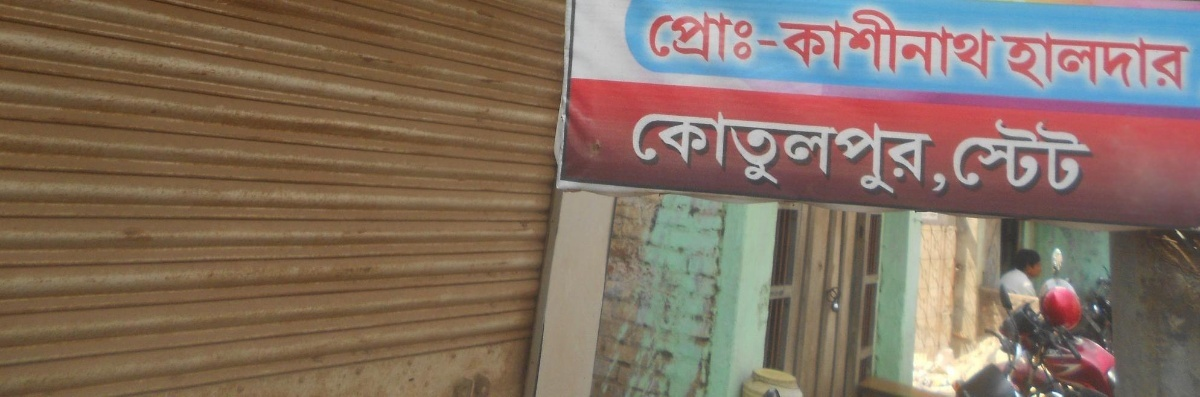text: (641, 104, 656, 198), (657, 104, 672, 198), (673, 104, 688, 198), (689, 104, 704, 198), (705, 104, 720, 198), (721, 104, 736, 198), (737, 104, 752, 198), (753, 104, 768, 198), (769, 104, 784, 198), (785, 104, 800, 198), (801, 104, 816, 198), (817, 104, 832, 198), (833, 104, 848, 198), (849, 104, 864, 198), (865, 104, 880, 198), (881, 104, 896, 198), (897, 104, 912, 198), (913, 104, 928, 198), (961, 112, 976, 195), (977, 112, 992, 195), (993, 112, 1008, 195), (1009, 112, 1024, 195), (1025, 112, 1040, 195), (1041, 112, 1056, 195), (1057, 112, 1072, 195), (1073, 112, 1088, 195), (785, 1, 800, 83), (801, 1, 816, 83), (817, 1, 832, 83), (833, 1, 848, 83), (849, 1, 864, 83), (865, 1, 880, 83), (881, 1, 896, 83), (897, 1, 912, 83), (913, 1, 928, 83), (929, 1, 944, 83), (945, 1, 960, 83), (961, 1, 976, 83), (977, 1, 992, 83), (1009, 23, 1024, 93), (1025, 23, 1040, 93), (1041, 23, 1056, 93), (1057, 23, 1072, 93), (1073, 23, 1088, 93), (1089, 23, 1104, 93), (1105, 23, 1120, 93), (1121, 23, 1136, 93), (1137, 23, 1152, 93), (1153, 23, 1168, 93), (1169, 23, 1184, 93), (929, 104, 940, 198), (737, 10, 753, 62), (657, 10, 672, 62), (673, 10, 688, 62), (689, 10, 704, 62), (705, 10, 720, 62), (721, 10, 736, 62), (1185, 23, 1196, 93), (952, 112, 960, 195), (776, 1, 784, 83), (993, 1, 999, 83), (1001, 23, 1008, 93), (648, 10, 656, 62), (1089, 112, 1094, 195), (929, 170, 944, 197), (637, 104, 640, 198), (754, 38, 768, 49), (769, 38, 780, 49), (945, 170, 949, 197)
